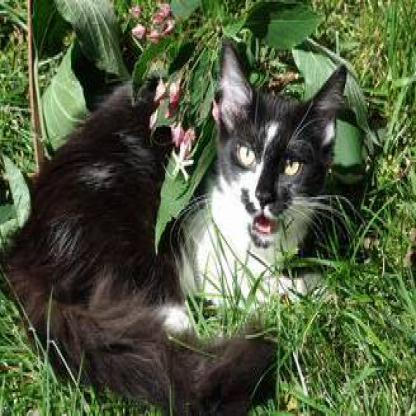cat: (71, 63, 355, 336)
